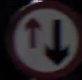Two way: (12, 8, 73, 64)
